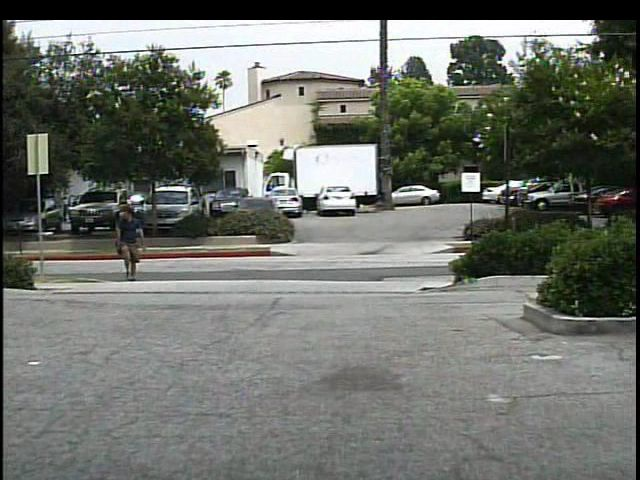person: (113, 206, 148, 284)
